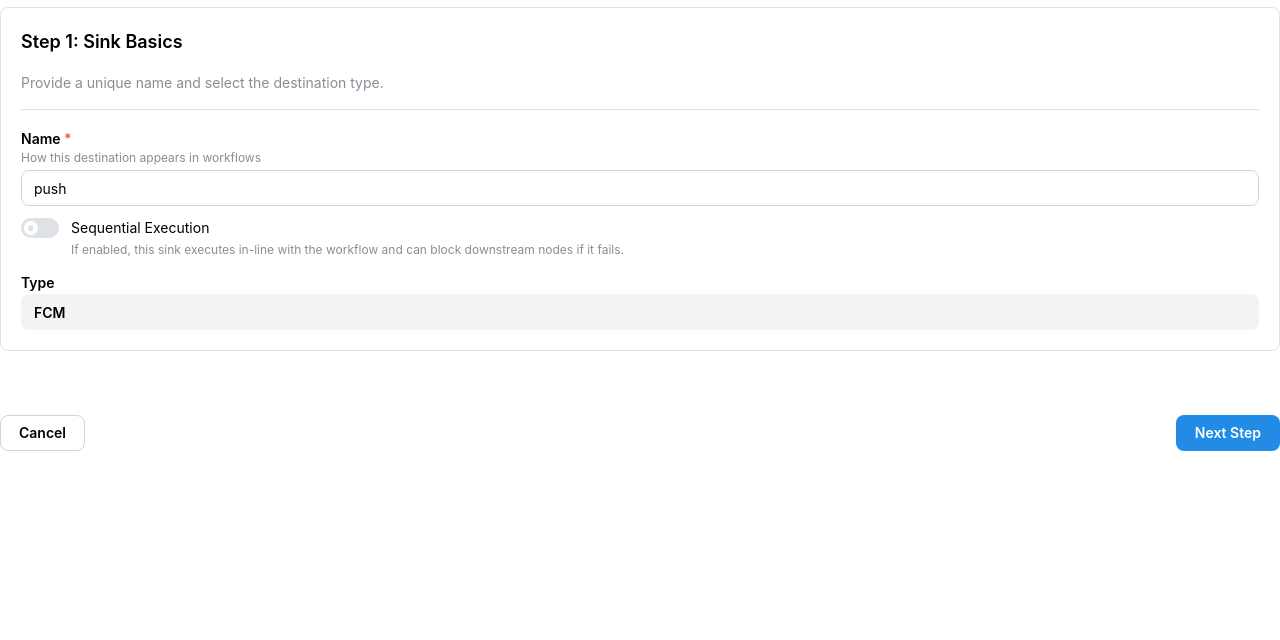
it: a new fcm sink › starts by sending only the values listed
Click the button "Next Step".
click(1228, 434)  # box [1176, 416, 1279, 452]
(page scrolled)
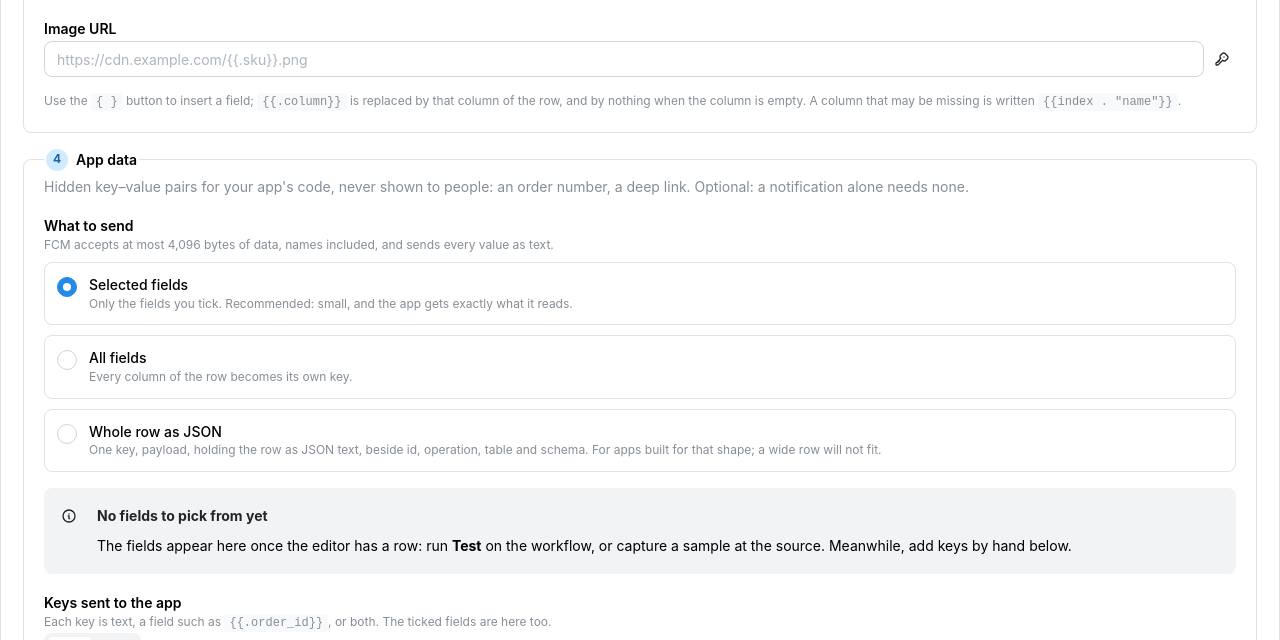
Check: the radio button labelled "Selected fields" is checked, box [44, 262, 1236, 325]
